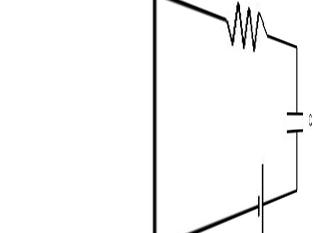Battery: (234, 154, 280, 229)
